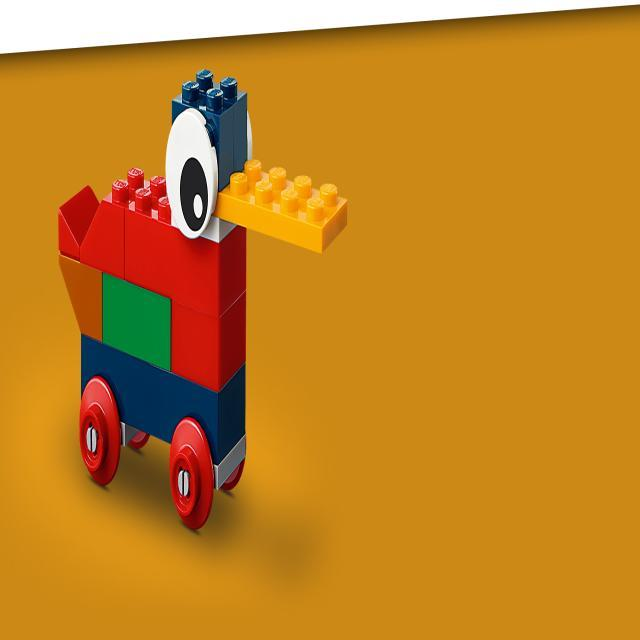hard-toy: (60, 70, 349, 530)
